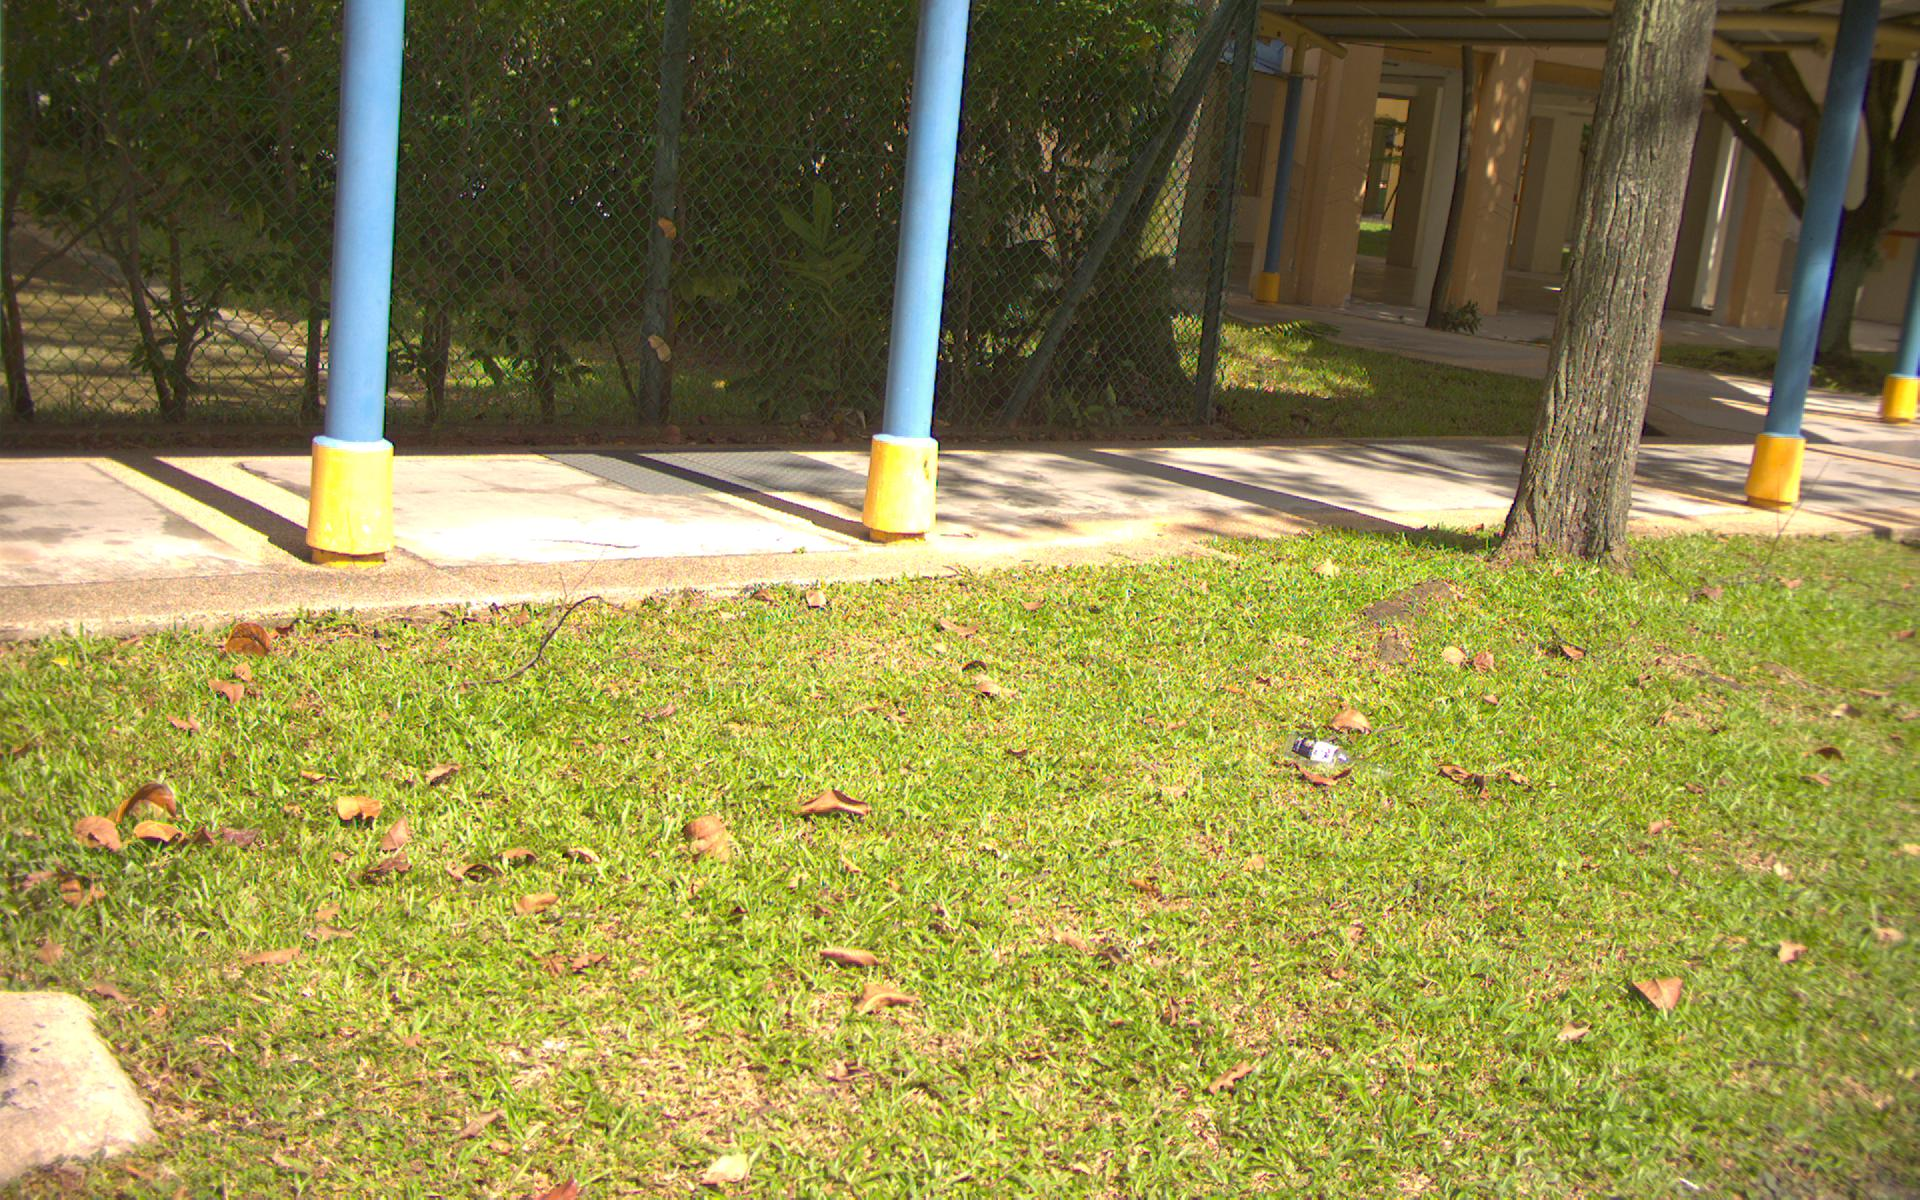pathway_low: (15, 453, 1743, 516)
road_turf_low: (19, 632, 1920, 1200)
